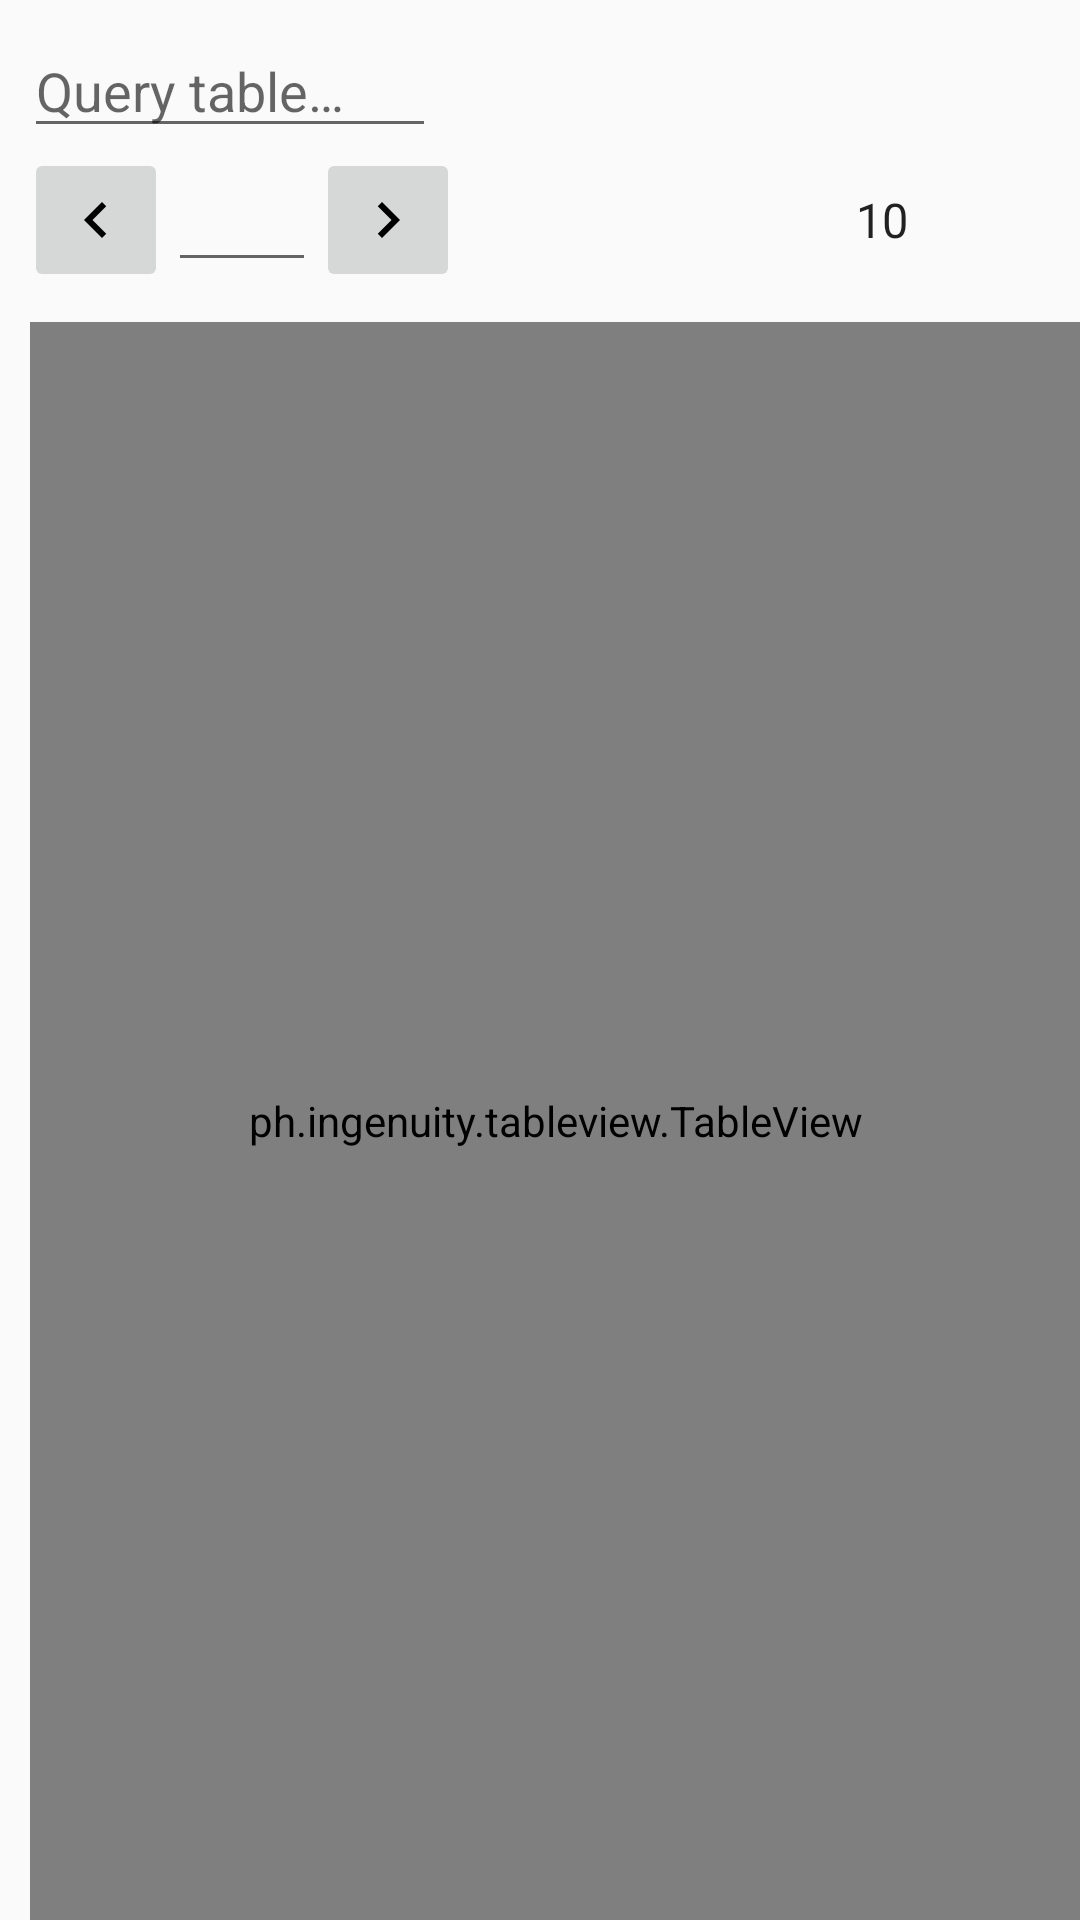

Icon click points for this 1080px x 1920px phone screenshot, format (x,y):
next: (388,220)
previous: (96,220)
